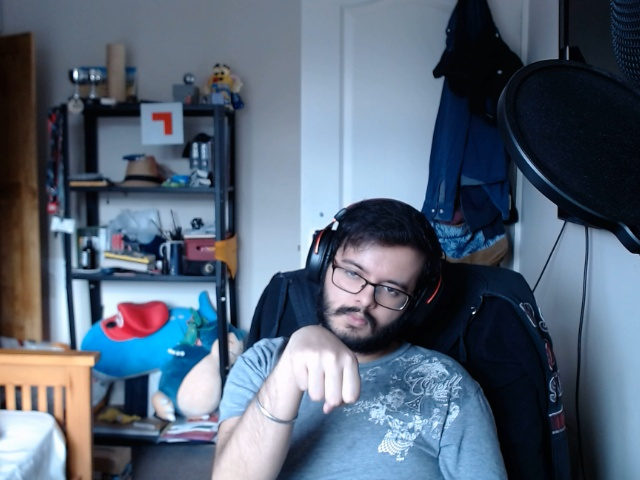Yes: (284, 319, 367, 418)
